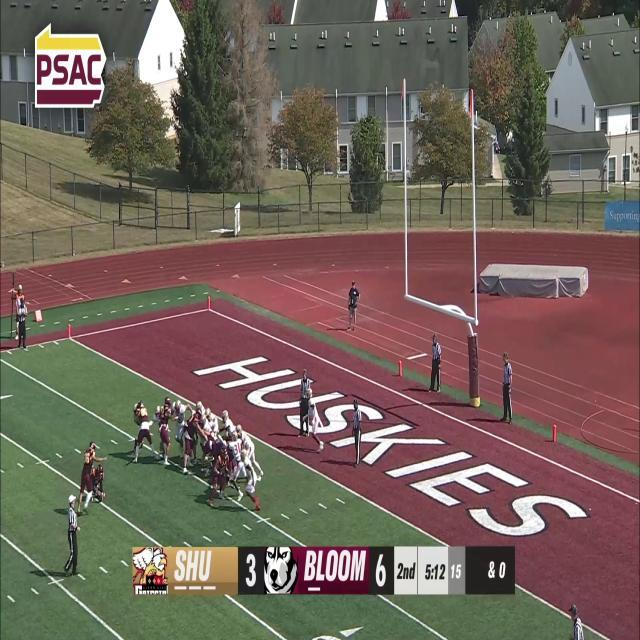football: (96, 490, 102, 502)
